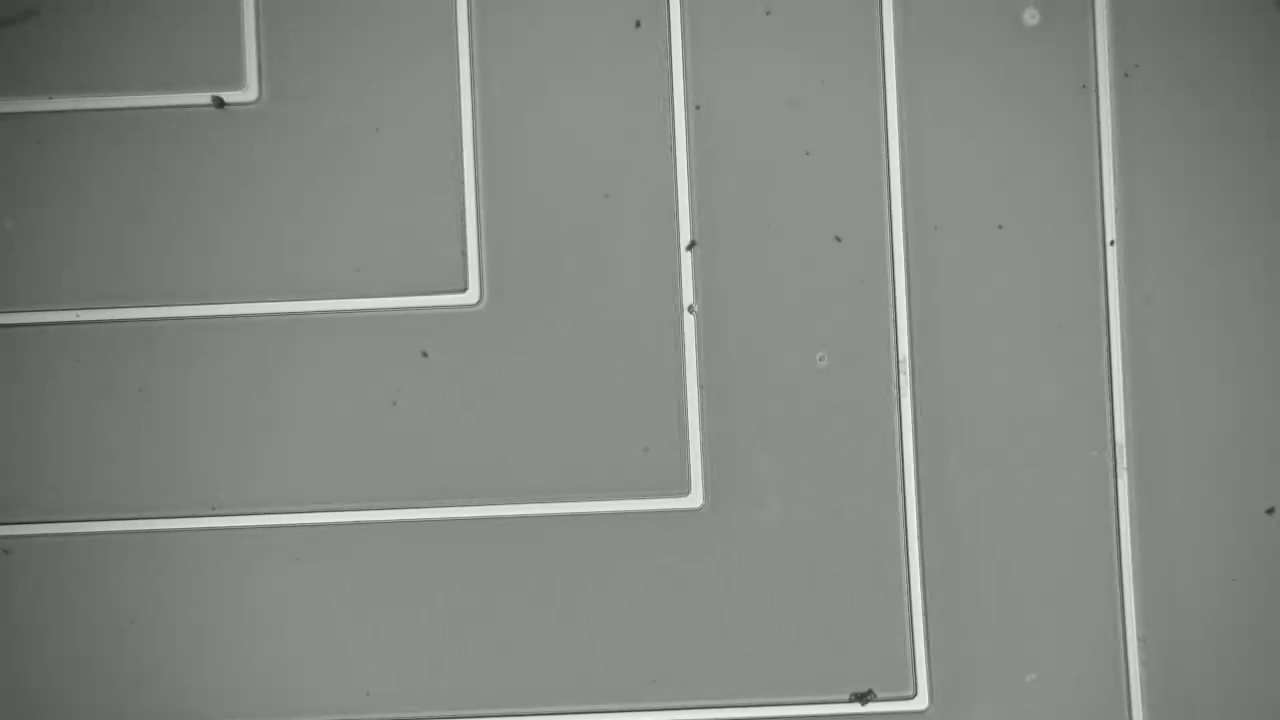stains_enbedded: (201, 82, 237, 115)
